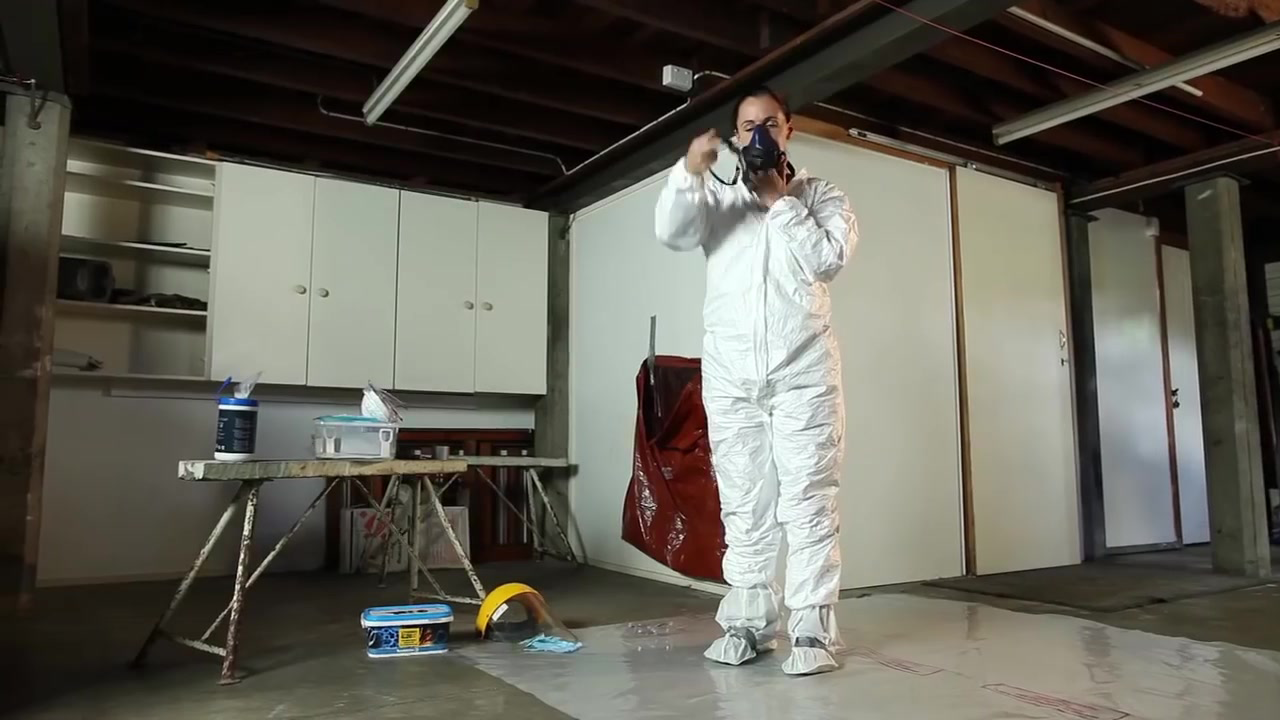Coverall: (674, 139, 853, 696)
with_mask: (742, 125, 789, 187)
